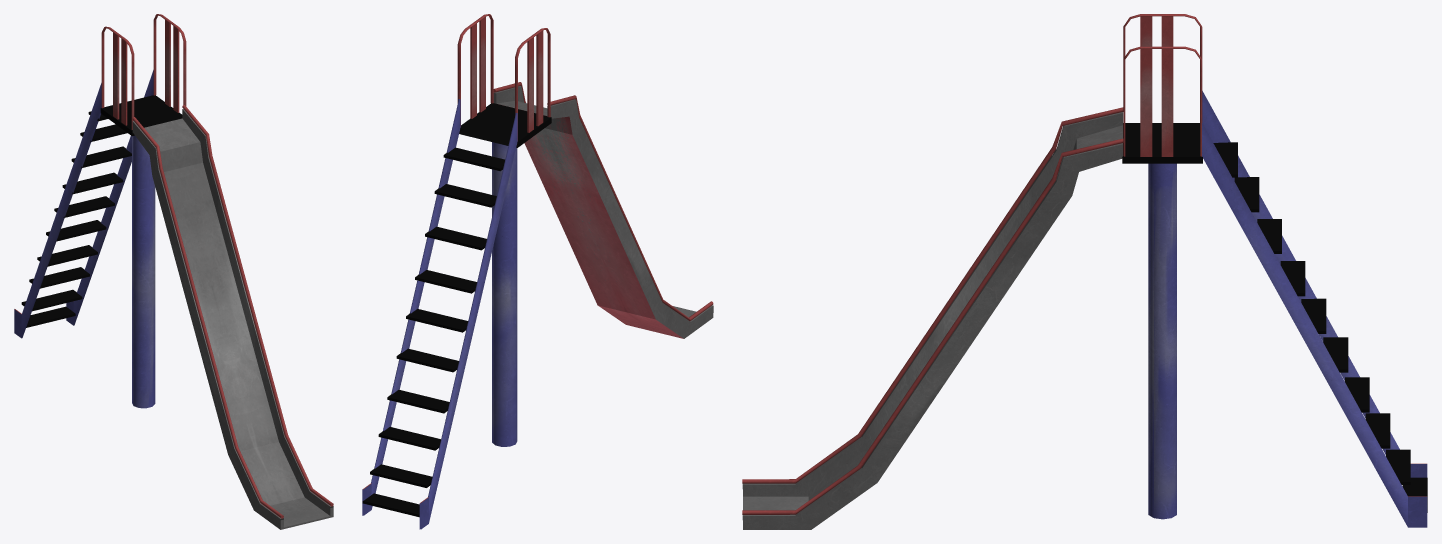
File: 봄_미끄럼틀.FBX
3 renders of one model, left to right at view 1: azimuth 30°, elevation 25°; view 2: azimuth 150°, elevation 25°; view 3: azimuth 270°, elevation 25°, orthographic. The views are drawn at different scales.
Visible parts, largest first — view 1: Box002, Cylinder003, Cylinder002, Cylinder005, Cylinder004, Cylinder001, Box001, Box011, Box009, Box010, Box006, Box007 (+3 smaller); view 2: Box002, Cylinder003, Cylinder002, Cylinder005, Box001, Cylinder001, Box011, Box010, Box009, Box008, Box004, Box005 (+4 smaller); view 3: Box002, Cylinder005, Cylinder003, Cylinder002, Cylinder001, Cylinder004, Box001.
Boxes of the visible parts, bbox=[...] form: Box002: bbox=[132, 109, 333, 529]; Cylinder003: bbox=[132, 135, 155, 408]; Cylinder002: bbox=[14, 26, 134, 338]; Cylinder005: bbox=[66, 14, 186, 325]; Cylinder004: bbox=[182, 105, 333, 506]; Cylinder001: bbox=[132, 117, 283, 518]; Box001: bbox=[100, 95, 182, 136]; Box011: bbox=[21, 289, 82, 311]; Box009: bbox=[37, 245, 97, 266]; Box010: bbox=[29, 267, 89, 288]; Box006: bbox=[62, 172, 123, 194]; Box007: bbox=[54, 196, 114, 217]; Box002: bbox=[493, 86, 713, 338]; Cylinder003: bbox=[492, 142, 517, 446]; Cylinder002: bbox=[419, 28, 550, 529]; Cylinder005: bbox=[362, 14, 493, 515]; Box001: bbox=[459, 103, 551, 147]; Cylinder001: bbox=[547, 95, 713, 320]; Box011: bbox=[370, 464, 432, 487]; Box010: bbox=[378, 427, 440, 450]; Box009: bbox=[387, 389, 449, 413]; Box008: bbox=[396, 348, 458, 372]; Box004: bbox=[434, 184, 496, 207]; Box005: bbox=[425, 226, 486, 250]; Box002: bbox=[742, 112, 1122, 529]; Cylinder005: bbox=[1123, 46, 1427, 527]; Cylinder003: bbox=[1148, 163, 1176, 519]; Cylinder002: bbox=[1123, 14, 1427, 477]; Cylinder001: bbox=[742, 107, 1123, 483]; Cylinder004: bbox=[742, 138, 1123, 514]; Box001: bbox=[1122, 123, 1202, 163].
Bounding box in the file's own units: 39.8 × 261 × 336.
1 material, 1 textured.
